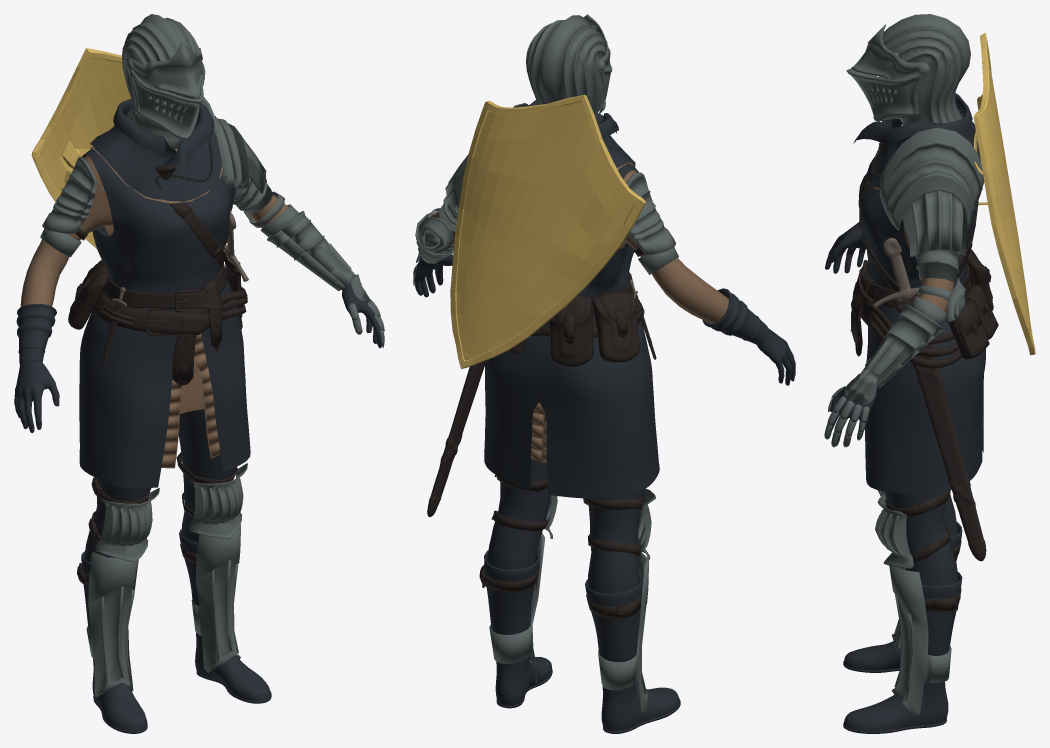
The model's file is knight_1lvl.glb.
3 renders of one model, left to right at view 1: azimuth 30°, elevation 25°; view 2: azimuth 150°, elevation 25°; view 3: azimuth 270°, elevation 25°, orthographic. The views are drawn at different scales.
Visible parts, largest first — view 1: node_id6, node_id9, node_id12, node_id15, node_id18, node_id21, node_id24; view 2: node_id6, node_id15, node_id9, node_id12, node_id18, node_id21; view 3: node_id9, node_id6, node_id12, node_id15, node_id21, node_id24, node_id18.
Part boxes in pixels (<box>): node_id6: <box>14,98,382,733</box>; node_id9: <box>40,14,384,696</box>; node_id12: <box>68,138,247,585</box>; node_id15: <box>31,48,130,249</box>; node_id18: <box>20,102,288,468</box>; node_id21: <box>101,253,242,366</box>; node_id24: <box>103,211,248,362</box>; node_id6: <box>414,100,795,733</box>; node_id15: <box>450,95,645,368</box>; node_id9: <box>413,14,678,713</box>; node_id12: <box>479,248,645,620</box>; node_id18: <box>421,162,728,463</box>; node_id21: <box>427,295,656,517</box>; node_id9: <box>824,14,984,717</box>; node_id6: <box>825,93,985,733</box>; node_id12: <box>850,142,998,611</box>; node_id15: <box>973,33,1035,355</box>; node_id21: <box>894,294,986,561</box>; node_id24: <box>872,237,919,308</box>; node_id18: <box>872,186,983,426</box>.
Size of the model in its own units: 2.73 by 4.84 by 1.36.
